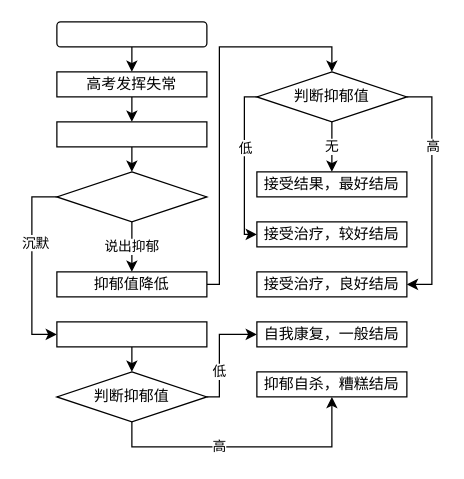
Image size: 464x479. Some labels were removed from this diagram. The box of each missing label's shape, as (x1, y1, x2, y2) in pixels:
与父亲沟通: (56, 121, 207, 147)
抑郁值升高: (56, 321, 207, 347)
玩家控制: (56, 171, 207, 222)
第五章: (56, 21, 207, 47)
